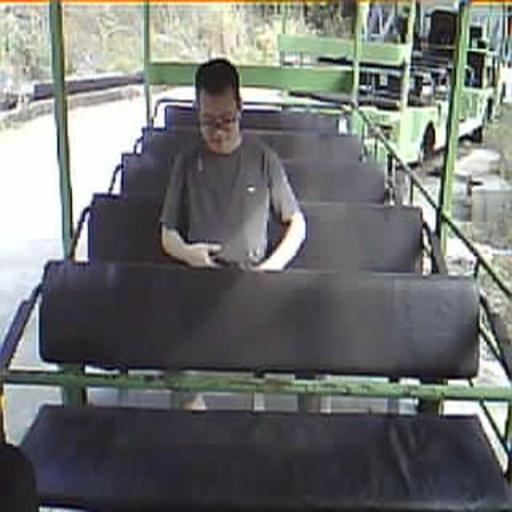persona: (158, 57, 307, 273)
